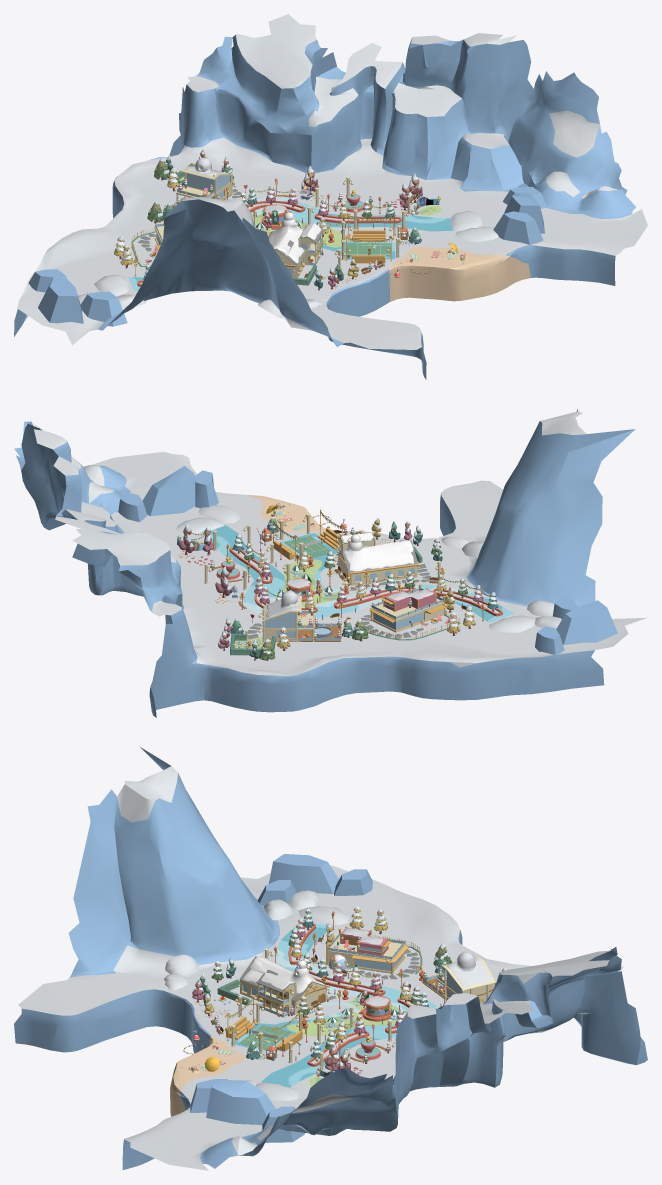
File: Individual_BeverlyChills_Summer_01.fbx
3 renders of one model, top to bottom at view 1: azimuth 30°, elevation 25°; view 2: azimuth 150°, elevation 25°; view 3: azimuth 270°, elevation 25°, orthographic. The views are drawn at different scales.
Parts seen in each view (by area): view 1: pasted__BeverlyChillsRoad_01, pasted__polySurface154, pasted__Object_IceRock4, polySurface9, pasted__Object_IceRock8, pasted__Object_IceRock3, pasted__Object_RoadIslands, pasted__Object_IceRock6, pasted__Building_TennisCourt2, pasted__SnowPatch8, pasted__Object_IceRock5; view 2: pasted__BeverlyChillsRoad_01, pasted__polySurface154, polySurface9, pasted__Building_LuxuryHouse3, pasted__Object_IceRock6, pasted__Object_IceRock4, pasted__Object_RoadIslands, pasted__Object_IceRock8, pasted__Object_IceRock5, pasted__Object_IceRock7, pasted__SnowPatch8, pasted__SnowPatch6 (+3 smaller); view 3: pasted__BeverlyChillsRoad_01, pasted__polySurface154, pasted__Object_IceRock6, pasted__Building_LuxuryHouse3, pasted__Object_IceRock4, polySurface9, pasted__Object_RoadIslands, pasted__Object_IceRock5, pasted__Object_IceRock7, pasted__Object_IceRock3, pasted__SnowPatch8, pasted__Building_RoundCoffeeShop1.
Part boxes in pixels (x1=…): pasted__BeverlyChillsRoad_01: x1=14, y1=14, x2=647, y2=379; pasted__polySurface154: x1=267, y1=212, x2=323, y2=277; pasted__Object_IceRock4: x1=38, y1=277, x2=83, y2=323; polySurface9: x1=171, y1=157, x2=230, y2=208; pasted__Object_IceRock8: x1=493, y1=211, x2=543, y2=244; pasted__Object_IceRock3: x1=80, y1=291, x2=127, y2=326; pasted__Object_RoadIslands: x1=137, y1=201, x2=401, y2=286; pasted__Object_IceRock6: x1=504, y1=192, x2=544, y2=233; pasted__Building_TennisCourt2: x1=346, y1=243, x2=391, y2=256; pasted__SnowPatch8: x1=94, y1=274, x2=129, y2=296; pasted__Object_IceRock5: x1=28, y1=269, x2=66, y2=292; pasted__BeverlyChillsRoad_01: x1=14, y1=409, x2=647, y2=717; pasted__polySurface154: x1=336, y1=533, x2=418, y2=585; polySurface9: x1=263, y1=590, x2=341, y2=641; pasted__Building_LuxuryHouse3: x1=372, y1=588, x2=443, y2=632; pasted__Object_IceRock6: x1=142, y1=466, x2=196, y2=516; pasted__Object_IceRock4: x1=556, y1=600, x2=617, y2=644; pasted__Object_RoadIslands: x1=229, y1=547, x2=502, y2=616; pasted__Object_IceRock8: x1=195, y1=470, x2=218, y2=507; pasted__Object_IceRock5: x1=535, y1=626, x2=564, y2=654; pasted__Object_IceRock7: x1=118, y1=493, x2=147, y2=522; pasted__SnowPatch8: x1=489, y1=615, x2=535, y2=632; pasted__SnowPatch6: x1=198, y1=505, x2=239, y2=523; pasted__BeverlyChillsRoad_01: x1=14, y1=747, x2=647, y2=1170; pasted__polySurface154: x1=239, y1=956, x2=329, y2=1017; pasted__Object_IceRock6: x1=206, y1=1079, x2=275, y2=1124; pasted__Building_LuxuryHouse3: x1=328, y1=927, x2=405, y2=973; pasted__Object_IceRock4: x1=268, y1=854, x2=338, y2=893; polySurface9: x1=422, y1=952, x2=495, y2=1001; pasted__Object_RoadIslands: x1=288, y1=924, x2=415, y2=1066; pasted__Object_IceRock5: x1=334, y1=869, x2=372, y2=895; pasted__Object_IceRock7: x1=262, y1=1106, x2=304, y2=1142; pasted__Object_IceRock3: x1=257, y1=880, x2=296, y2=905; pasted__SnowPatch8: x1=298, y1=906, x2=349, y2=925; pasted__Building_RoundCoffeeShop1: x1=359, y1=995, x2=391, y2=1021.
Size of the model in its own units: 11927 by 3384 by 10397.
